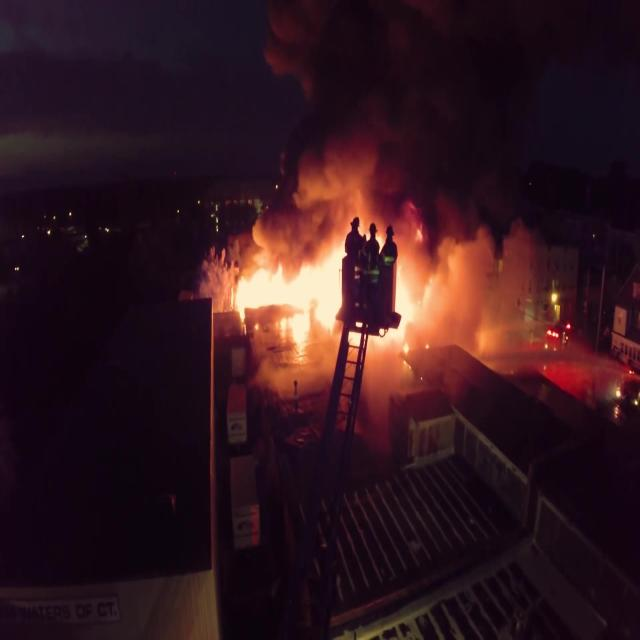Fire: (244, 260, 380, 331)
Smoke: (291, 0, 487, 253)
